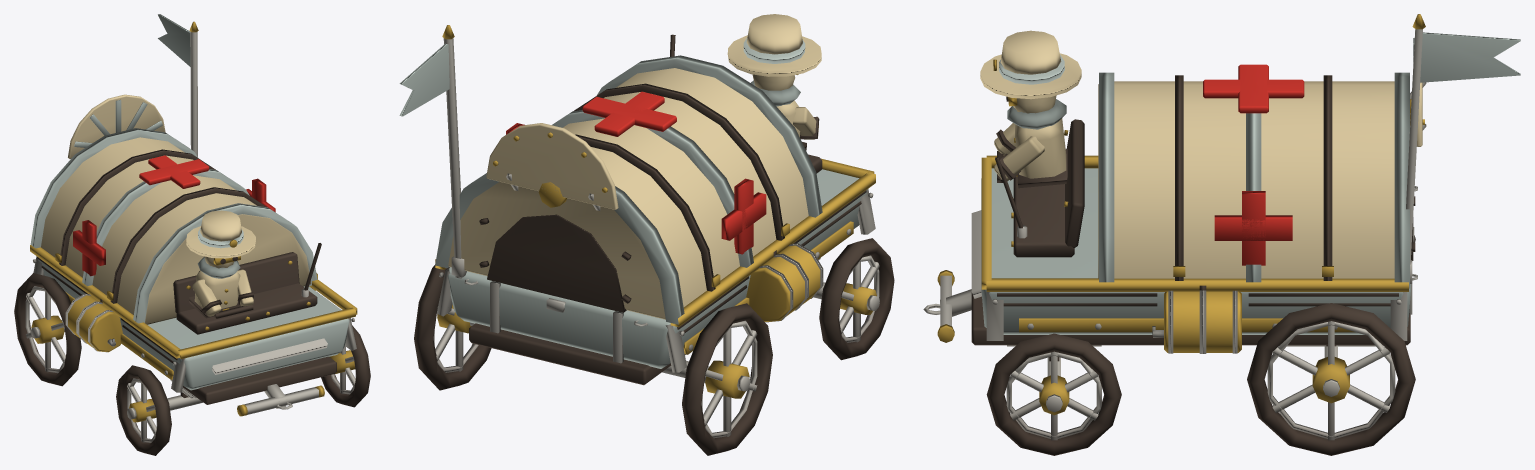
Rendered from wagon.glb.
3 renders of one model, left to right at view 1: azimuth 30°, elevation 25°; view 2: azimuth 150°, elevation 25°; view 3: azimuth 270°, elevation 25°, orthographic. The views are drawn at different scales.
Visible parts, largest first — view 1: Canvas_tilt, Team_details, Undercarriage_details, Hazard_details, Wheels, Steel_details, Cross_details, Wheel_spokes, Solar_fan, Wheel_hubs, Hat_crown, Hat_brim (+2 smaller); view 2: Canvas_tilt, Team_details, Undercarriage_details, Wheels, Hazard_details, Steel_details, Solar_fan, Cross_details, Wheel_spokes, Wheel_hubs, Hat_crown, Hat_brim (+2 smaller); view 3: Canvas_tilt, Team_details, Undercarriage_details, Hazard_details, Wheels, Steel_details, Wheel_spokes, Cross_details, Hat_crown, Hat_brim, Driver, Wheel_hubs (+1 smaller).
Part boxes in pixels (box(x1,y1,x2,y2)): Canvas_tilt: box(41, 137, 311, 324); Team_details: box(30, 14, 349, 390); Undercarriage_details: box(37, 149, 336, 404); Hazard_details: box(30, 21, 357, 416); Wheels: box(14, 273, 370, 455); Steel_details: box(31, 31, 356, 419); Cross_details: box(73, 155, 275, 276); Wheel_spokes: box(25, 286, 356, 442); Solar_fan: box(68, 94, 165, 158); Wheel_hubs: box(31, 315, 355, 422); Hat_crown: box(200, 210, 241, 241); Hat_brim: box(186, 226, 255, 258); Canvas_tilt: box(448, 68, 808, 319); Team_details: box(399, 38, 867, 368); Undercarriage_details: box(445, 34, 866, 385); Wheels: box(414, 238, 894, 455); Hazard_details: box(435, 25, 875, 354); Steel_details: box(436, 38, 879, 391); Solar_fan: box(486, 123, 618, 209); Cross_details: box(506, 91, 766, 254); Wheel_spokes: box(433, 255, 879, 438); Wheel_hubs: box(437, 283, 876, 398); Hat_crown: box(746, 14, 802, 54); Hat_brim: box(727, 35, 821, 76); Canvas_tilt: box(1098, 81, 1394, 278); Team_details: box(981, 32, 1520, 334); Undercarriage_details: box(971, 75, 1415, 361); Hazard_details: box(937, 14, 1425, 352); Wheels: box(986, 235, 1415, 455); Steel_details: box(923, 29, 1426, 412); Wheel_spokes: box(1006, 321, 1395, 440); Cross_details: box(1203, 64, 1304, 265); Hat_crown: box(1000, 30, 1061, 74); Hat_brim: box(980, 53, 1081, 99); Driver: box(1015, 118, 1066, 178); Wheel_hubs: box(1039, 357, 1349, 415).
Size of the model in its own units: 2.25 by 2.78 by 3.53.
